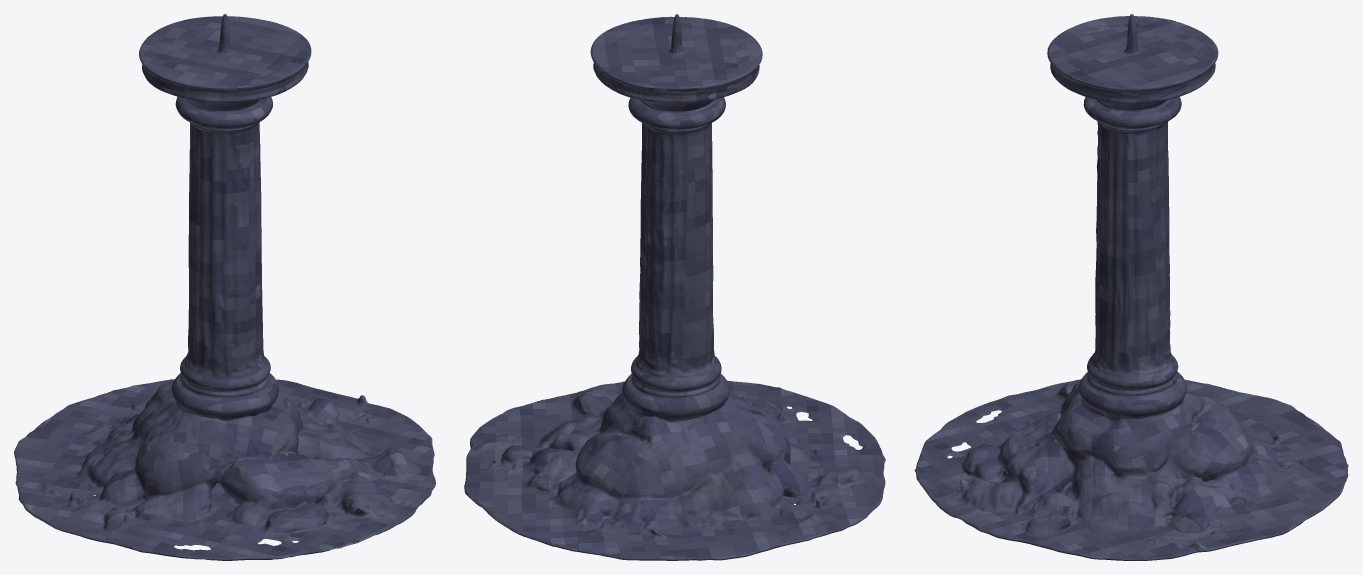
The model's file is weathered-monolith-pillar-generated-2026-04-19T23-33-28-476Z.high.glb.
3 views of the same model, side by side, from view 1: azimuth 30°, elevation 25°; view 2: azimuth 150°, elevation 25°; view 3: azimuth 270°, elevation 25° (orthographic).
Visible parts, largest first — view 1: temp_mesh.ply; view 2: temp_mesh.ply; view 3: temp_mesh.ply.
Part boxes in pixels (bbox=[...]): temp_mesh.ply: bbox=[14, 14, 435, 560]; temp_mesh.ply: bbox=[464, 14, 885, 560]; temp_mesh.ply: bbox=[914, 14, 1348, 560].
Bounding box in the file's own units: 1.73 × 1.97 × 1.71.
1 material, 1 textured.
